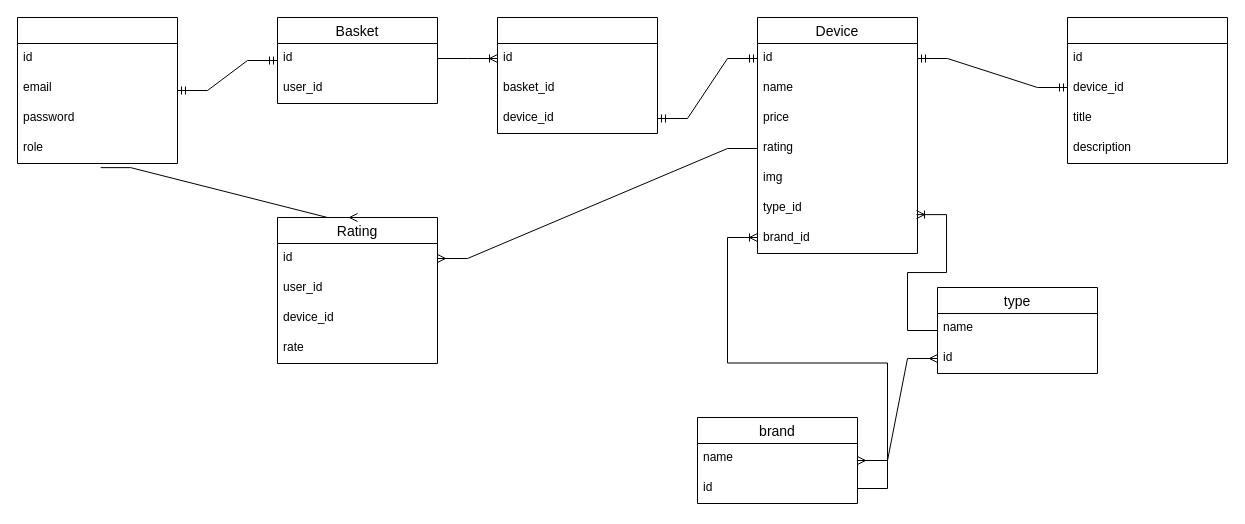
The diagram is 1245 pixels wide and 524 high, and some of its shapes have lost their labels. Each missing label, with the box of its shape:
Basket_device: (496, 16, 658, 134)
Device_info: (1066, 16, 1228, 164)
User: (16, 16, 178, 164)
